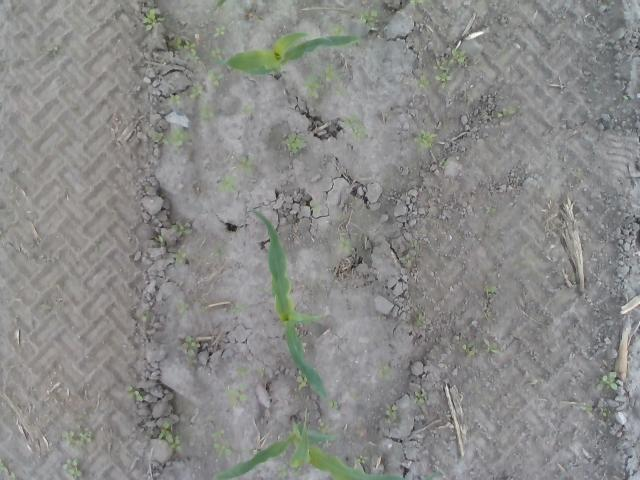Maize: (248, 207, 335, 402), (211, 414, 409, 480), (216, 32, 362, 77)
Weeds: (434, 47, 465, 82), (170, 36, 202, 64), (158, 420, 183, 453), (209, 428, 232, 458), (150, 127, 186, 146), (343, 112, 368, 138), (592, 371, 622, 391), (62, 430, 92, 448), (224, 384, 250, 403), (61, 456, 82, 479), (302, 75, 320, 99), (207, 67, 226, 89), (142, 6, 158, 32), (286, 132, 306, 152), (208, 46, 229, 65), (240, 152, 258, 174), (360, 7, 380, 25), (216, 176, 237, 193), (125, 384, 144, 402), (418, 130, 434, 151), (182, 334, 198, 354), (319, 63, 336, 81), (174, 222, 193, 238), (198, 105, 218, 119), (238, 367, 266, 377), (175, 248, 188, 269), (496, 106, 513, 120), (377, 365, 392, 380), (418, 73, 432, 89), (384, 401, 398, 417), (276, 463, 289, 480), (330, 24, 348, 36), (224, 304, 242, 316), (337, 238, 352, 252), (192, 86, 208, 99), (296, 373, 308, 390), (398, 254, 416, 265), (169, 92, 182, 106), (212, 25, 225, 38), (600, 406, 614, 418), (354, 453, 368, 465), (412, 391, 424, 405), (152, 234, 164, 247), (462, 344, 475, 356), (176, 302, 189, 314), (48, 46, 61, 57), (484, 204, 498, 214), (408, 0, 431, 6), (241, 102, 254, 112), (214, 247, 225, 258), (414, 318, 424, 329), (486, 345, 498, 354), (142, 313, 153, 322), (484, 286, 496, 294), (328, 400, 338, 408), (438, 159, 448, 166), (0, 462, 4, 472)
